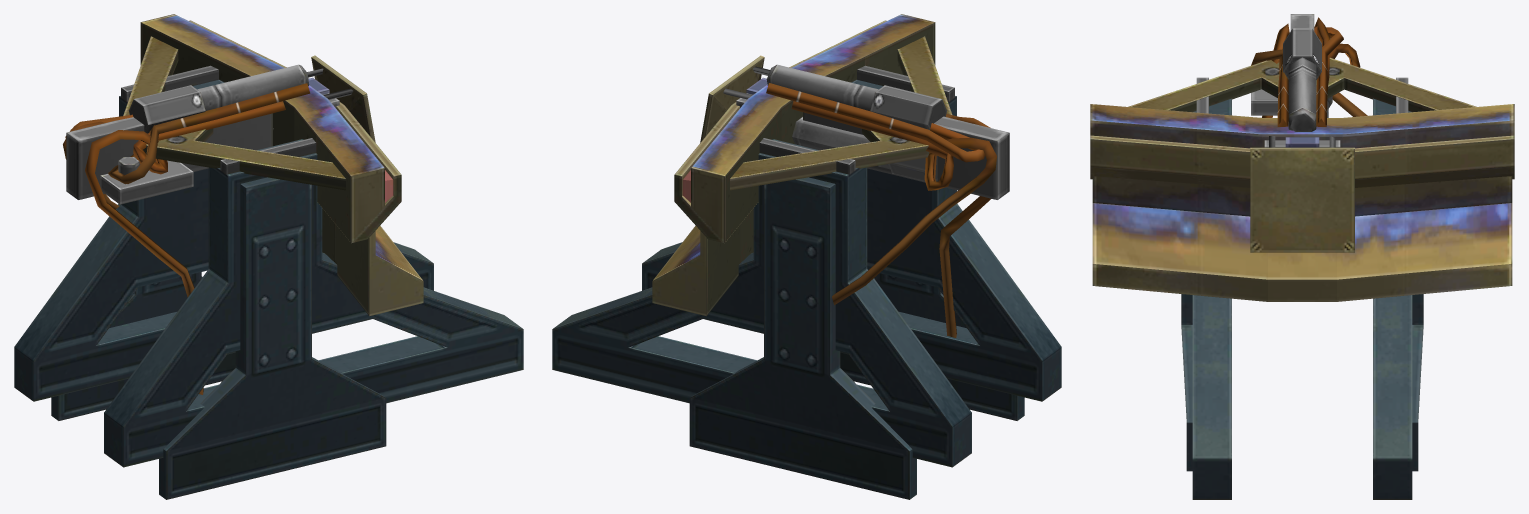
Rendered from S_Trap_124_eradio.fbx.
3 views of the same model, side by side, from view 1: azimuth 30°, elevation 25°; view 2: azimuth 150°, elevation 25°; view 3: azimuth 270°, elevation 25° (orthographic).
Parts seen in each view (by area): view 1: S_Trap_124_eradio; view 2: S_Trap_124_eradio; view 3: S_Trap_124_eradio.
Part boxes in pixels (bbox=[...]): S_Trap_124_eradio: bbox=[14, 14, 523, 499]; S_Trap_124_eradio: bbox=[552, 14, 1061, 499]; S_Trap_124_eradio: bbox=[1090, 14, 1514, 499].
Size of the model in its own units: 0.956 by 0.7939 by 0.8722.
1 material, 1 textured.
